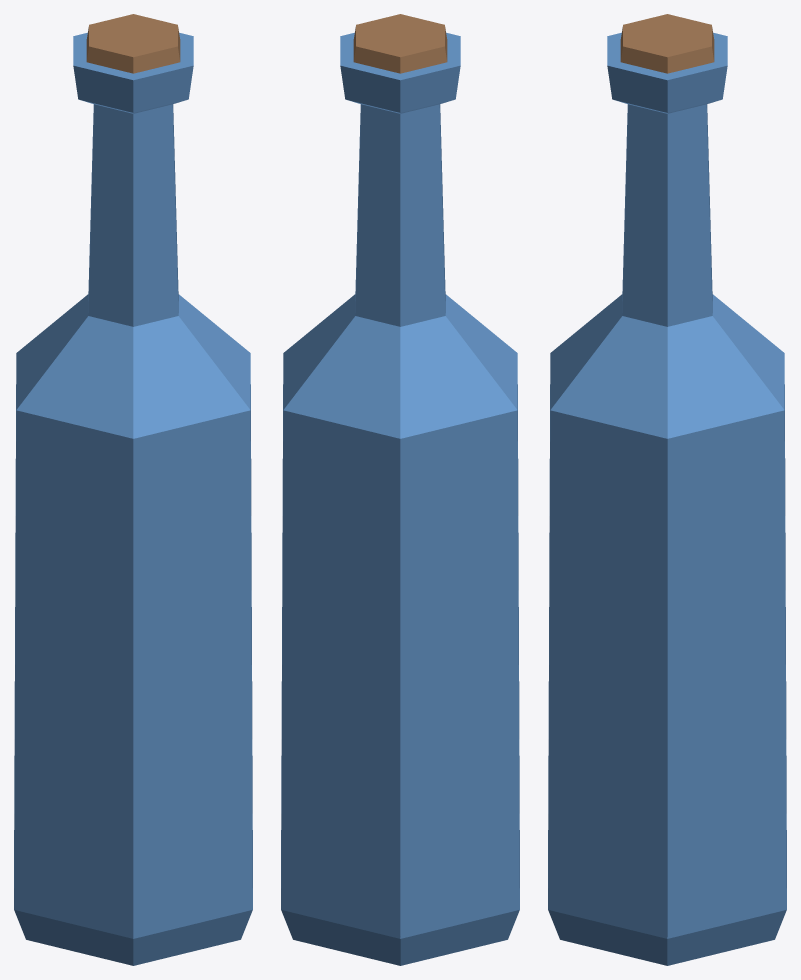
File: Blue_Potion_14.fbx
3 renders of one model, left to right at view 1: azimuth 30°, elevation 25°; view 2: azimuth 150°, elevation 25°; view 3: azimuth 270°, elevation 25°, orthographic.
Parts seen in each view (by area): view 1: Blue_Potion_14; view 2: Blue_Potion_14; view 3: Blue_Potion_14.
Boxes of the visible parts, x1,y1,x2,y2 form: Blue_Potion_14: (14,14,252,965); Blue_Potion_14: (281,14,519,965); Blue_Potion_14: (548,14,786,965).
Size of the model in its own units: 13.2 by 46.35 by 11.43.
